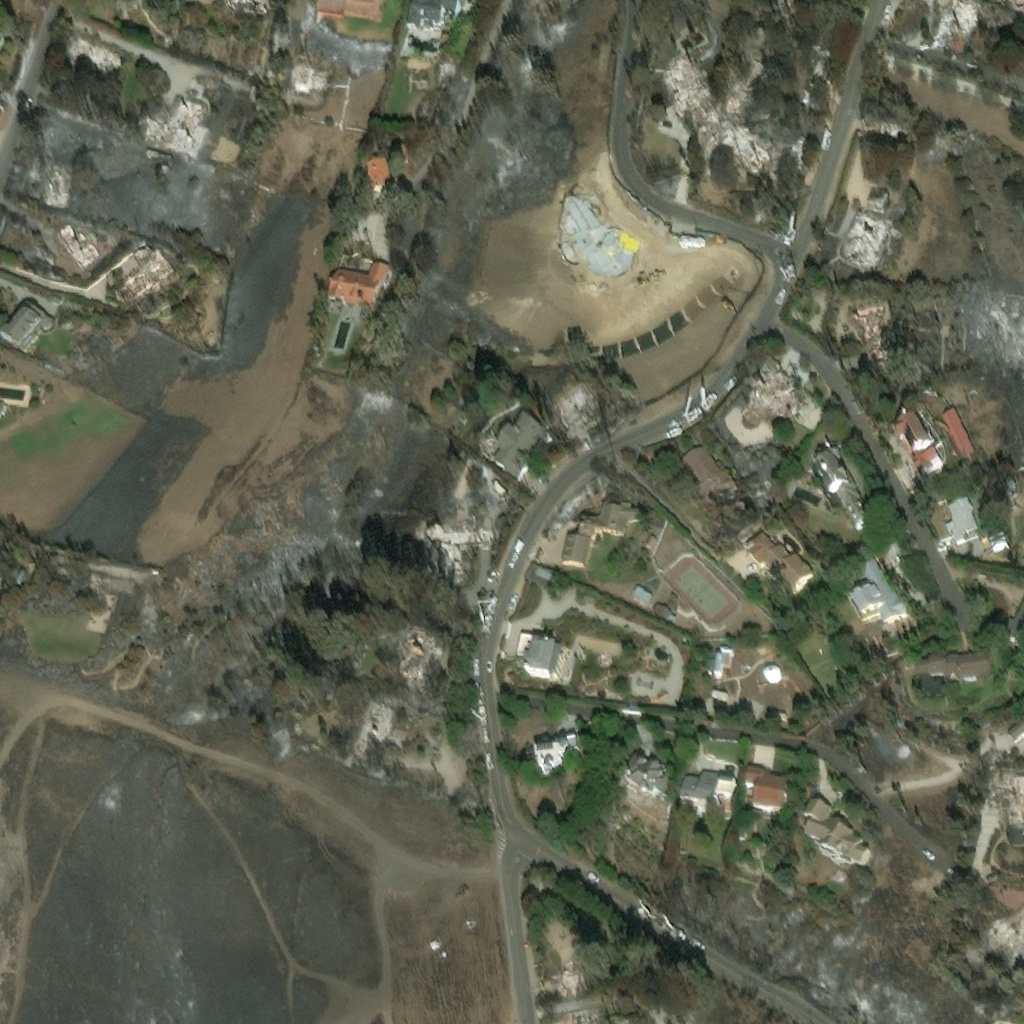0 no-damage: (561, 498, 643, 569), (803, 802, 873, 872), (847, 550, 910, 625), (746, 533, 816, 594), (486, 412, 548, 480), (814, 451, 867, 526), (890, 412, 944, 476), (683, 441, 738, 499), (328, 267, 391, 315), (683, 774, 737, 824), (620, 757, 672, 807), (912, 651, 993, 683), (517, 635, 569, 682), (744, 770, 792, 818), (943, 493, 978, 541), (534, 738, 579, 775), (981, 475, 1019, 518), (941, 407, 973, 454), (998, 598, 1023, 646), (372, 161, 400, 197), (751, 746, 776, 772), (714, 648, 735, 678), (988, 529, 1010, 552), (652, 604, 678, 623), (1007, 719, 1023, 745), (632, 587, 653, 605), (713, 684, 728, 701), (535, 567, 553, 581), (1006, 0, 1023, 9), (773, 715, 788, 725)
3 destroyed: (247, 105, 377, 208), (272, 54, 403, 133), (562, 190, 640, 277), (756, 369, 826, 433), (113, 240, 175, 302), (53, 214, 123, 267), (423, 522, 495, 571), (850, 301, 900, 369), (662, 63, 714, 121), (840, 210, 887, 268), (719, 117, 776, 164), (168, 87, 211, 146), (929, 0, 975, 50), (66, 27, 117, 69), (357, 701, 391, 761), (400, 621, 435, 679), (987, 773, 1023, 829), (989, 914, 1023, 958), (34, 162, 67, 201), (722, 84, 750, 115), (211, 0, 266, 10), (785, 142, 807, 165), (868, 190, 889, 212)
4 un-classified: (314, 0, 383, 20)
